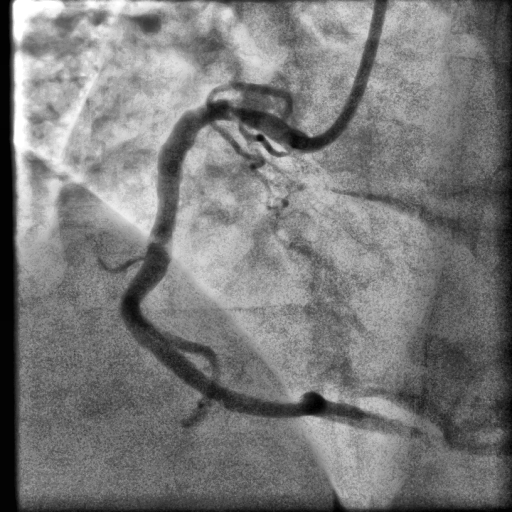rca: (121, 101, 442, 444)
